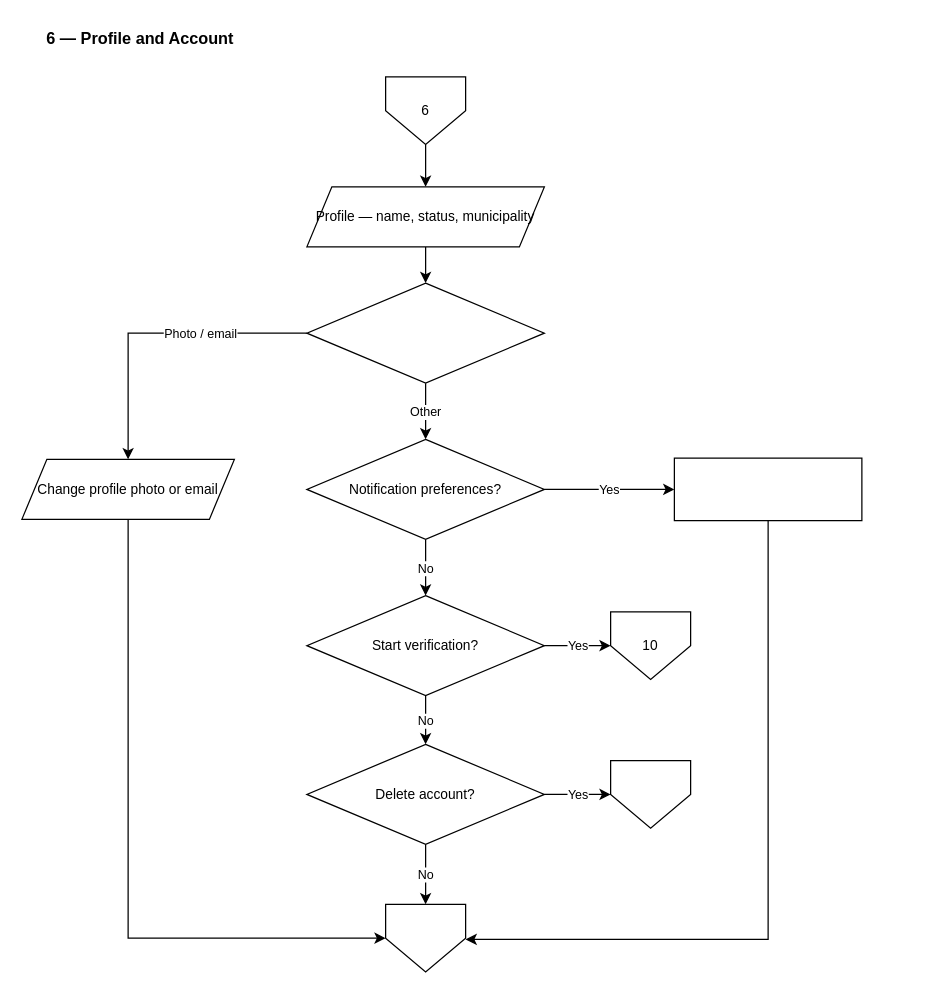
Image size: 941x994. Some labels were removed from this diagram. Here are the shapes that lost their labels. From the top down, the centre of each, then its label:
At point (425, 332): "Which action?".
At point (767, 489): "Save preferences".
At point (650, 793): "6A".
At point (425, 937): "AA".
